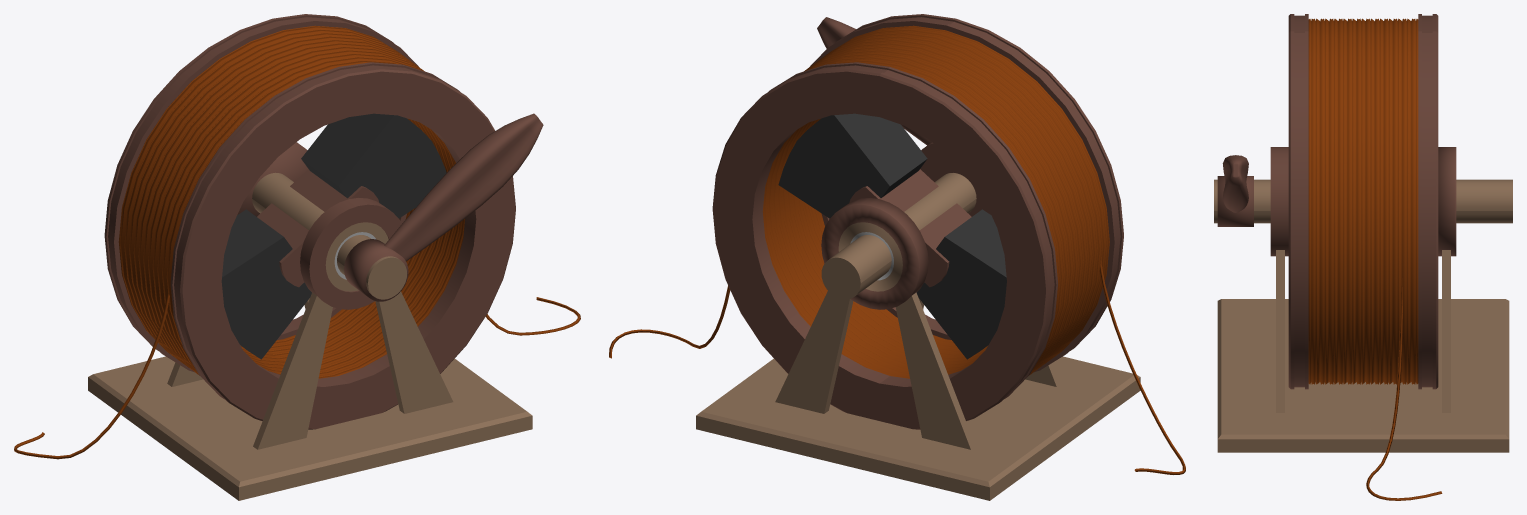
File: assets.glb
The picture shows the model from 3 angles, left to right: view 1: azimuth 30°, elevation 25°; view 2: azimuth 150°, elevation 25°; view 3: azimuth 270°, elevation 25°; orthographic projection. The views are drawn at different scales.
Visible parts, largest first — view 1: Circle.009; view 2: Circle.009; view 3: Circle.009.
Boxes of the visible parts, left/top/right/bottom form: Circle.009: left=14, top=14, right=580, bottom=500; Circle.009: left=609, top=14, right=1185, bottom=500; Circle.009: left=1214, top=14, right=1512, bottom=500.
Bounding box in the file's own units: 3.46 × 2.13 × 1.64.
1 material, 1 textured.
